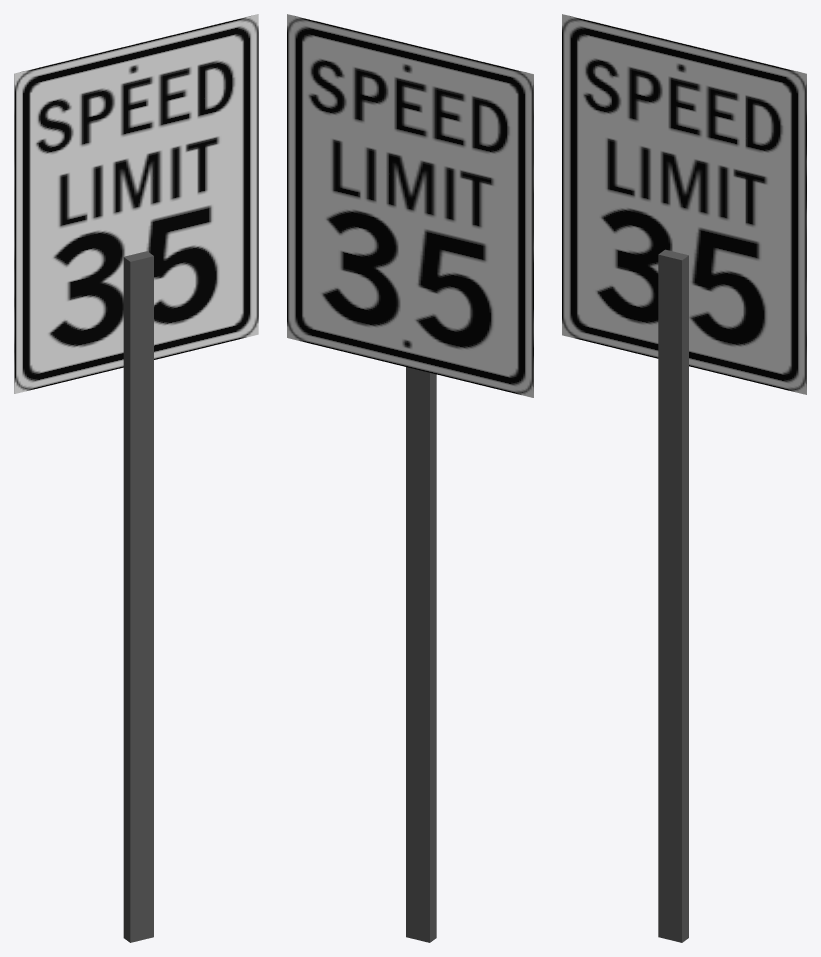
File: speed_35.dae
The picture shows the model from 3 angles, left to right: view 1: azimuth 30°, elevation 25°; view 2: azimuth 150°, elevation 25°; view 3: azimuth 330°, elevation 25°; orthographic projection.
Visible parts, largest first — view 1: Cube_001; view 2: Cube_001; view 3: Cube_001.
Boxes of the visible parts, x1=… form: Cube_001: x1=14, y1=14, x2=258, y2=942; Cube_001: x1=287, y1=14, x2=533, y2=942; Cube_001: x1=562, y1=14, x2=806, y2=942.
Bounding box in the file's own units: 0.9144 × 0.0657 × 3.18.
